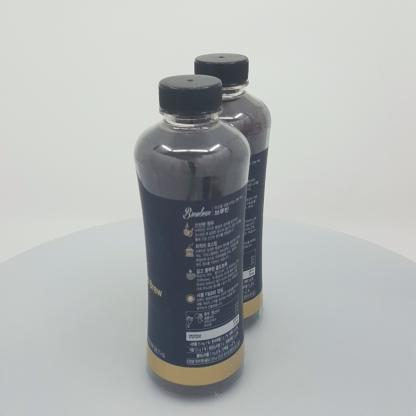-------------: (134, 74, 250, 395)
